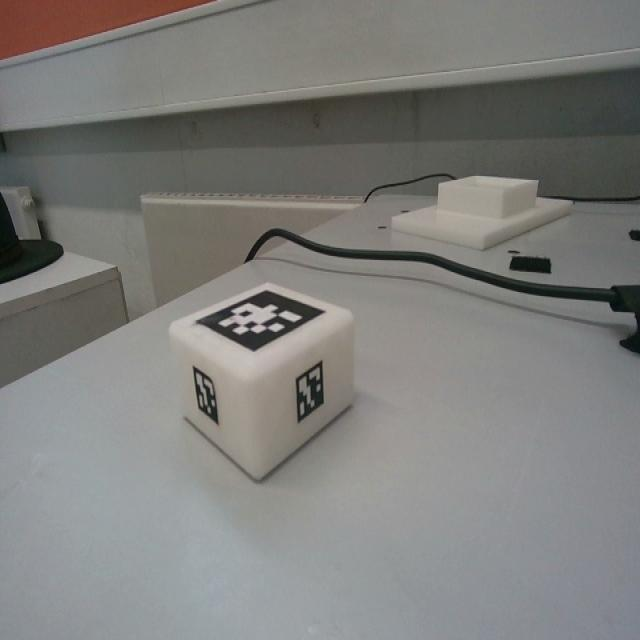Cube: (168, 278, 354, 482)
